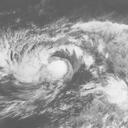cyclone: (43, 57, 74, 85)
